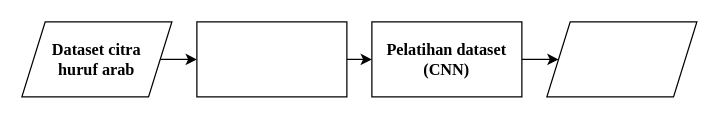
Some shapes in this 719 by 119 pixel diagram are drawn without their labels. Each missing label, with the box of its shape:
Model: (546, 21, 697, 97)
Preprocessing: (196, 21, 347, 97)
